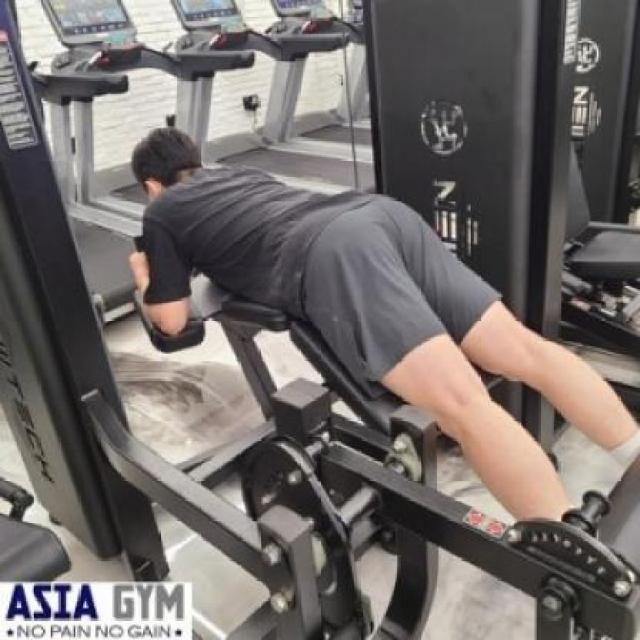reg curl machine: (86, 0, 640, 640)
